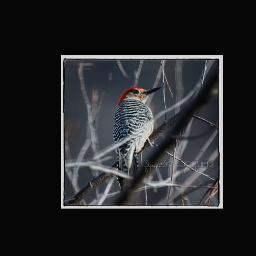Woodpecker: (110, 82, 164, 176)
